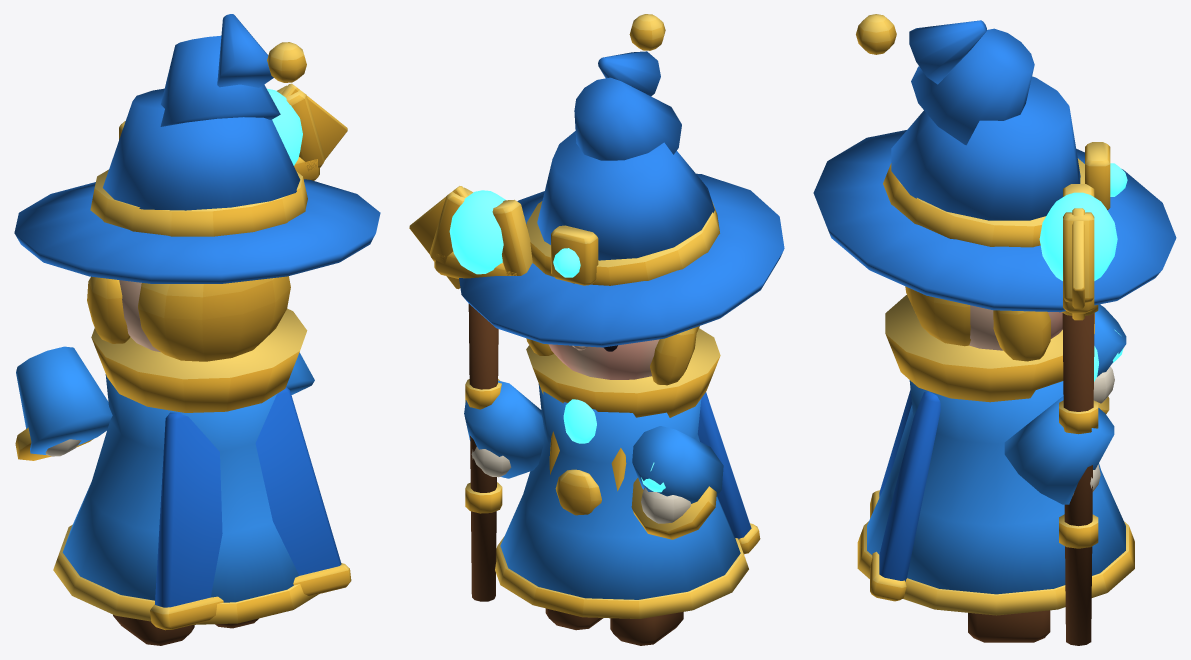
Rendered from unit-mage.glb.
3 views of the same model, side by side, from view 1: azimuth 30°, elevation 25°; view 2: azimuth 150°, elevation 25°; view 3: azimuth 270°, elevation 25° (orthographic). The views are drawn at different scales.
Visible parts, largest first — view 1: Anim_Head, Anim_Body, Anim_Cape, Anim_ArmL, Anim_StaffOrb, Anim_ArmR, Anim_LegL; view 2: Anim_Head, Anim_Body, Anim_ArmR, Anim_ArmL, Anim_StaffOrb, Anim_Cape, Anim_LegL, Anim_LegR; view 3: Anim_Head, Anim_Body, Anim_ArmR, Anim_Cape, Anim_StaffOrb, Anim_LegR, Anim_ArmL.
Boxes of the visible parts, x1,y1,x2,y2 form: Anim_Head: (14, 14, 380, 361); Anim_Body: (53, 308, 318, 624); Anim_Cape: (150, 387, 351, 630); Anim_ArmL: (15, 346, 112, 460); Anim_StaffOrb: (267, 83, 347, 165); Anim_ArmR: (277, 85, 325, 394); Anim_LegL: (113, 614, 194, 645); Anim_Head: (459, 14, 784, 385); Anim_Body: (495, 328, 748, 618); Anim_ArmR: (429, 187, 544, 601); Anim_ArmL: (631, 426, 723, 539); Anim_StaffOrb: (409, 186, 505, 289); Anim_Cape: (697, 392, 760, 554); Anim_LegL: (610, 612, 683, 645); Anim_LegR: (545, 608, 603, 630); Anim_Head: (813, 14, 1176, 361); Anim_Body: (857, 295, 1134, 615); Anim_ArmR: (1004, 184, 1114, 645); Anim_Cape: (870, 389, 940, 601); Anim_StaffOrb: (1039, 192, 1117, 320); Anim_LegR: (968, 610, 1050, 642); Anim_ArmL: (1093, 304, 1126, 413).
Bounding box in the file's own units: 1.27 × 2.14 × 1.15.
